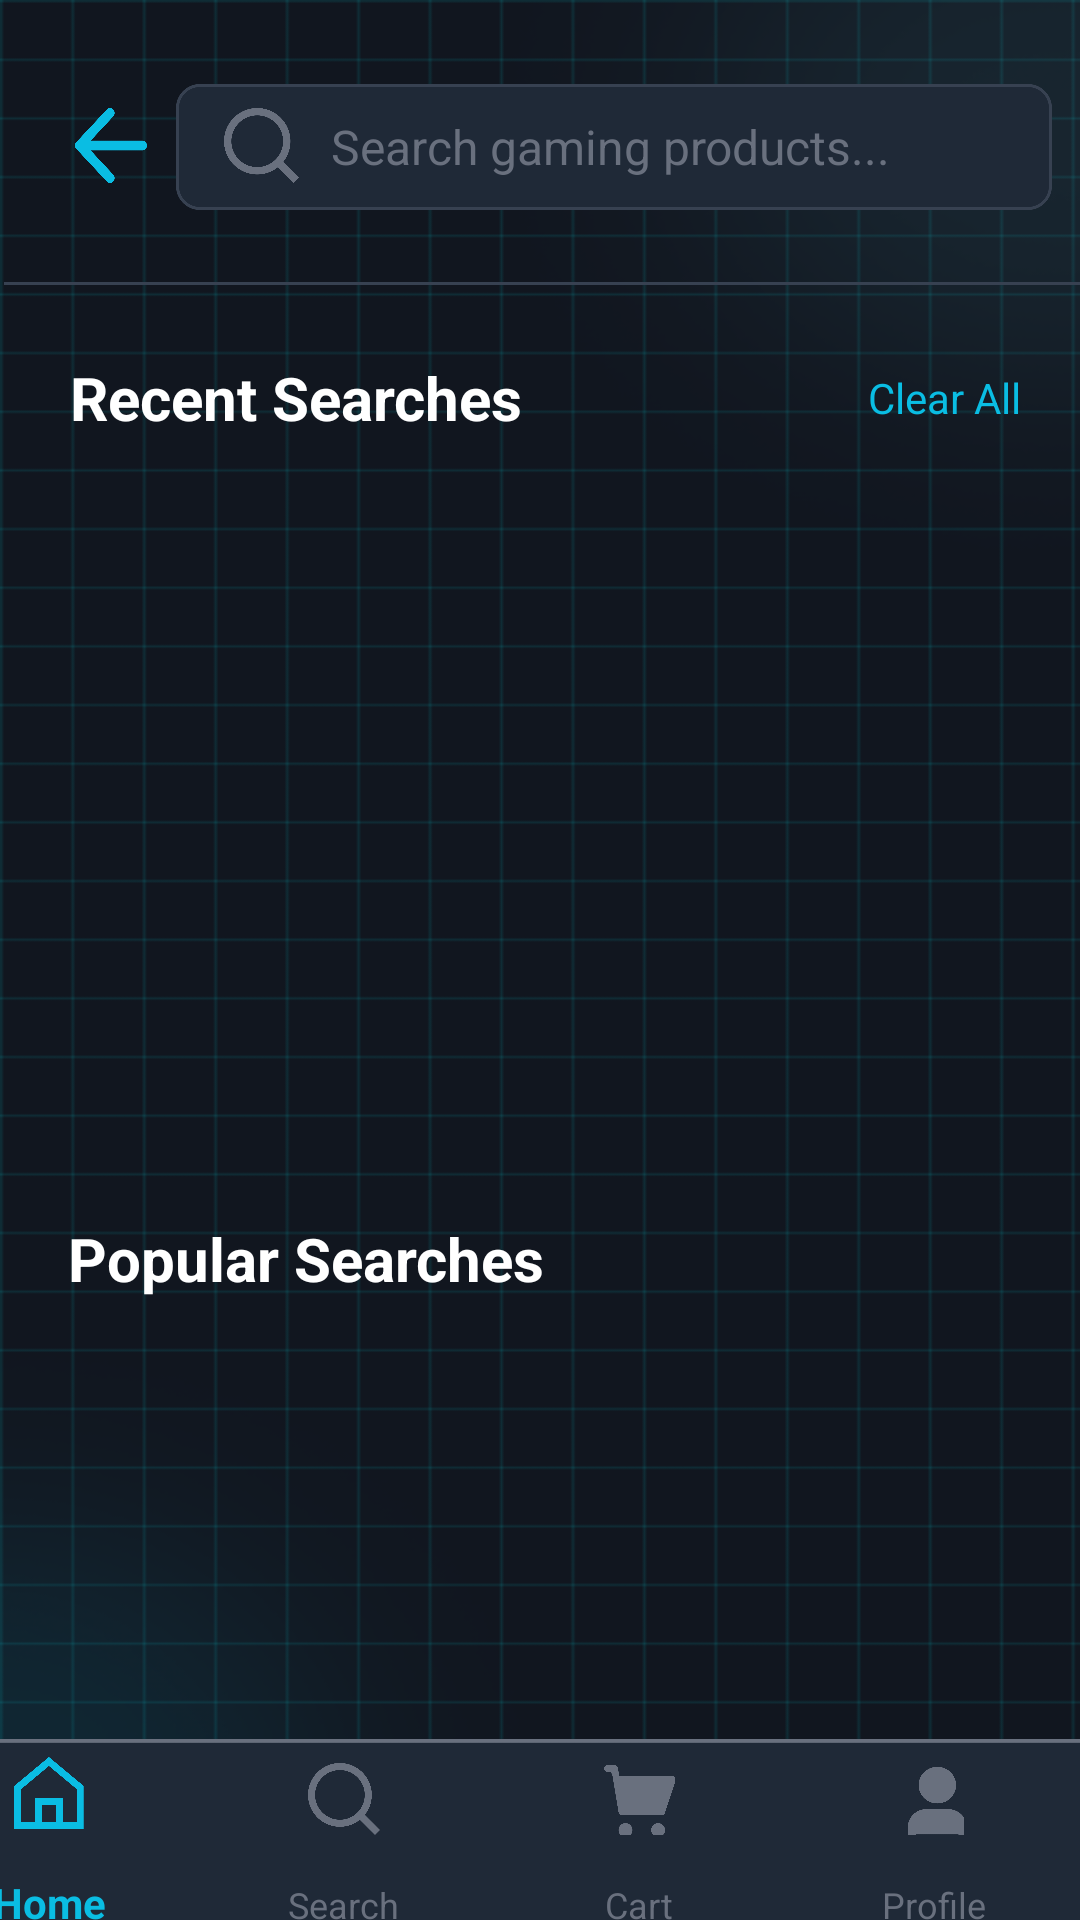

Where to tap for icons on this 1080x1920 app screen, as point (x, y):
muitentrai: point (111, 145)
